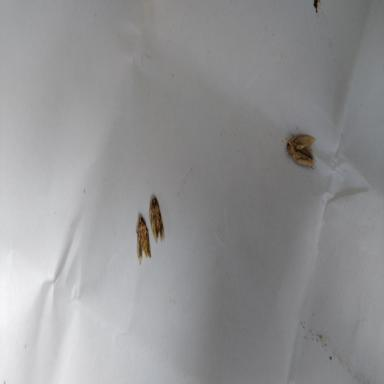pbw: (283, 134, 315, 169), (136, 214, 152, 265), (148, 194, 164, 244)
